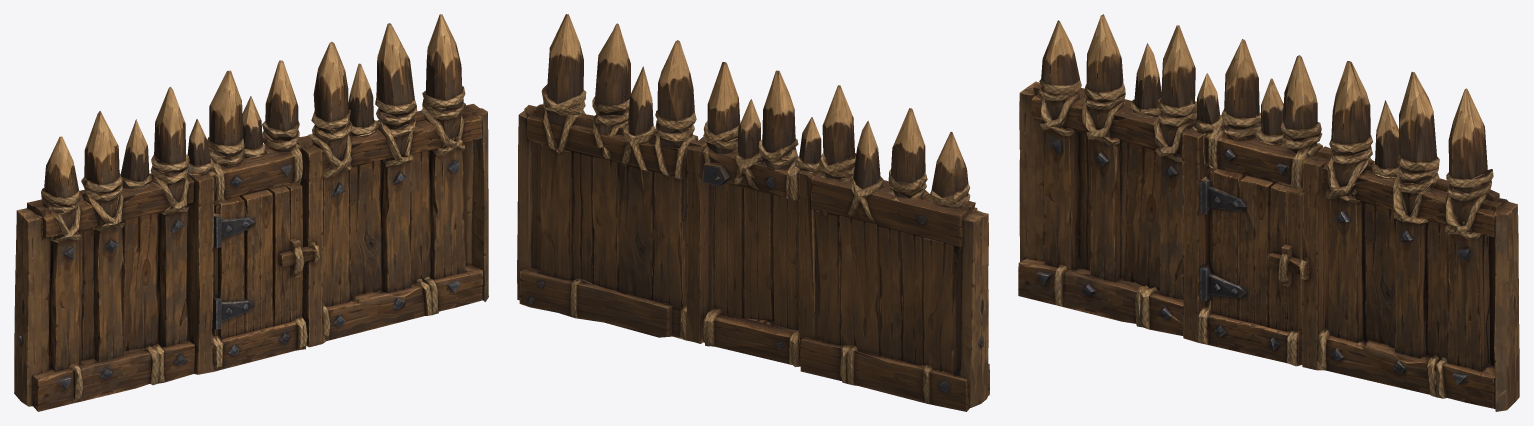
The model's file is barricade-gate.glb.
The picture shows the model from 3 angles, left to right: view 1: azimuth 30°, elevation 25°; view 2: azimuth 150°, elevation 25°; view 3: azimuth 330°, elevation 25°; orthographic projection. The views are drawn at different scales.
Parts seen in each view (by area): view 1: output_unwrapped; view 2: output_unwrapped; view 3: output_unwrapped.
Boxes of the visible parts, x1,y1,x2,y2 form: output_unwrapped: (14,14,488,411); output_unwrapped: (517,14,989,411); output_unwrapped: (1018,14,1519,411).
Bounding box in the file's own units: 1.9 × 1.15 × 0.2301.
Materials: 1 (1 with a texture image).
